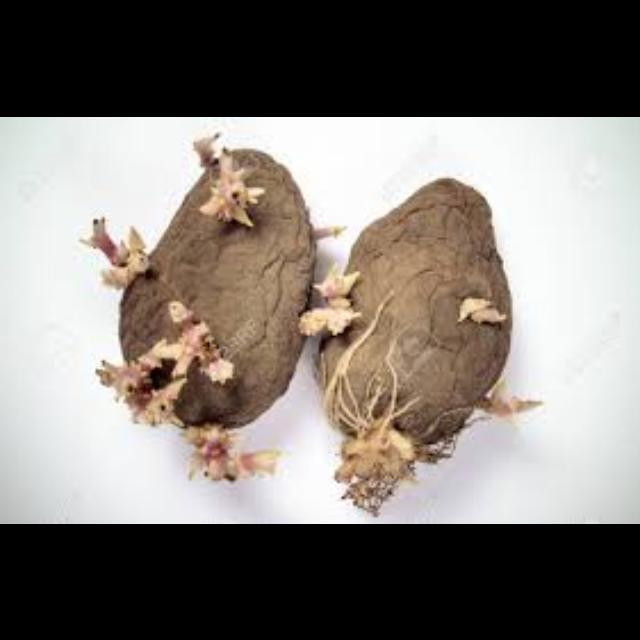Sprouted potato: (98, 135, 306, 488), (327, 177, 518, 518)
